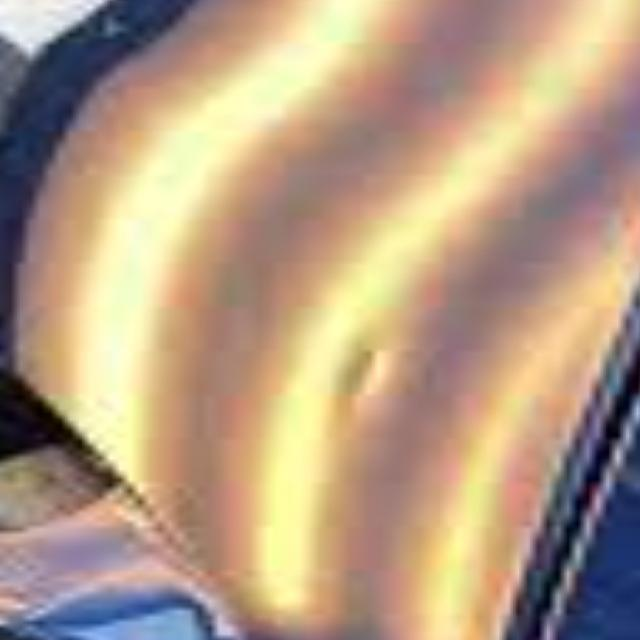dents: (319, 332, 416, 440)
